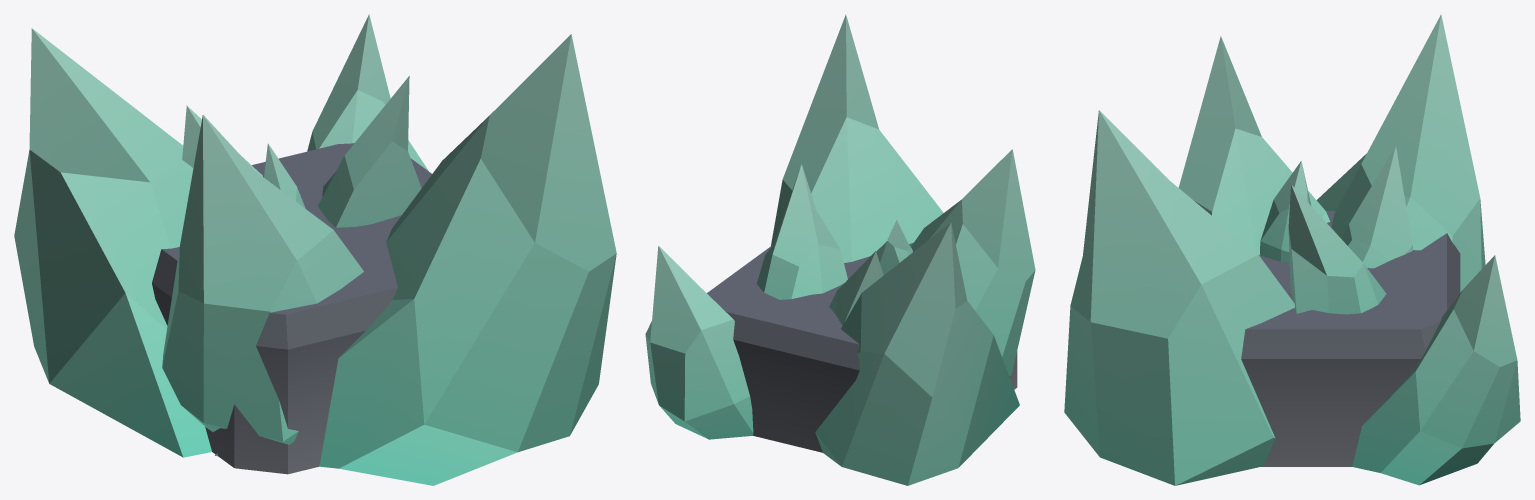
File: ice tower.fbx
3 views of the same model, side by side, from view 1: azimuth 30°, elevation 25°; view 2: azimuth 150°, elevation 25°; view 3: azimuth 270°, elevation 25° (orthographic). The views are drawn at different scales.
Visible parts, largest first — view 1: Cube.122; view 2: Cube.122; view 3: Cube.122.
Part boxes in pixels (bbox=[...]): Cube.122: bbox=[14, 14, 616, 485]; Cube.122: bbox=[645, 14, 1035, 485]; Cube.122: bbox=[1064, 14, 1520, 485].
Size of the model in its own units: 258 by 238 by 283.
